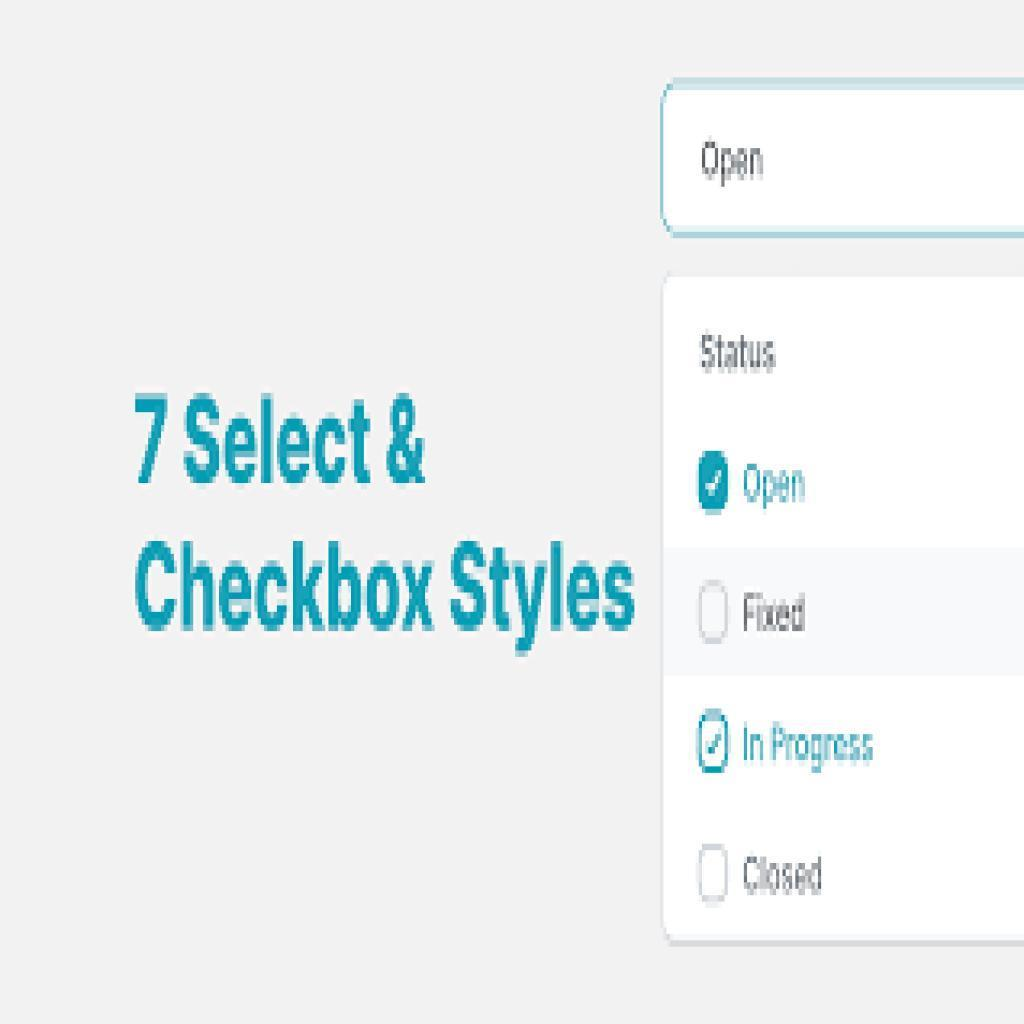checkbox: (699, 706, 731, 778), (700, 579, 732, 644), (697, 845, 730, 904), (698, 455, 729, 516)
input: (660, 76, 1024, 241)
